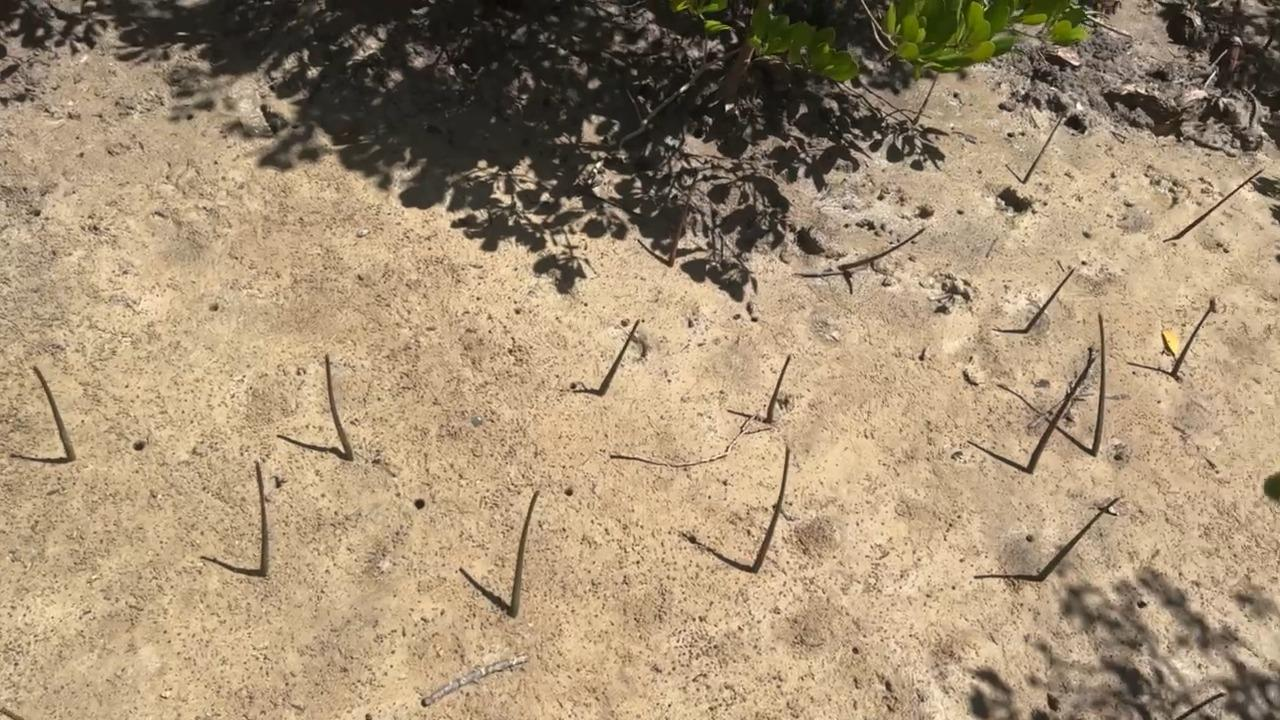Tree: (1026, 351, 1098, 475), (1037, 496, 1122, 582), (1179, 168, 1264, 239), (748, 445, 791, 574), (32, 365, 77, 462), (509, 490, 540, 619), (838, 226, 926, 271), (1168, 297, 1216, 377), (1023, 266, 1076, 334), (325, 352, 355, 466), (1021, 111, 1067, 185), (598, 318, 641, 397), (666, 173, 697, 268), (1091, 311, 1106, 458), (766, 353, 792, 424), (254, 461, 269, 578), (1175, 691, 1227, 720), (912, 76, 941, 125)
